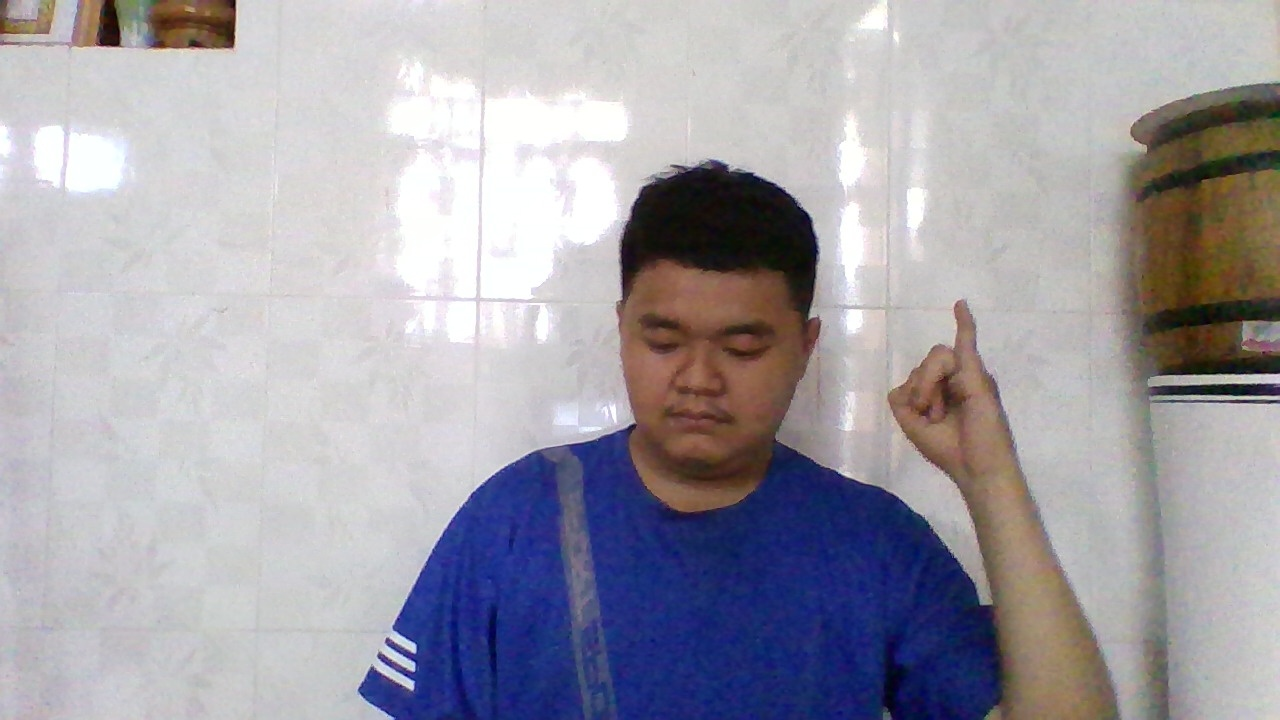I: (880, 289, 988, 482)
